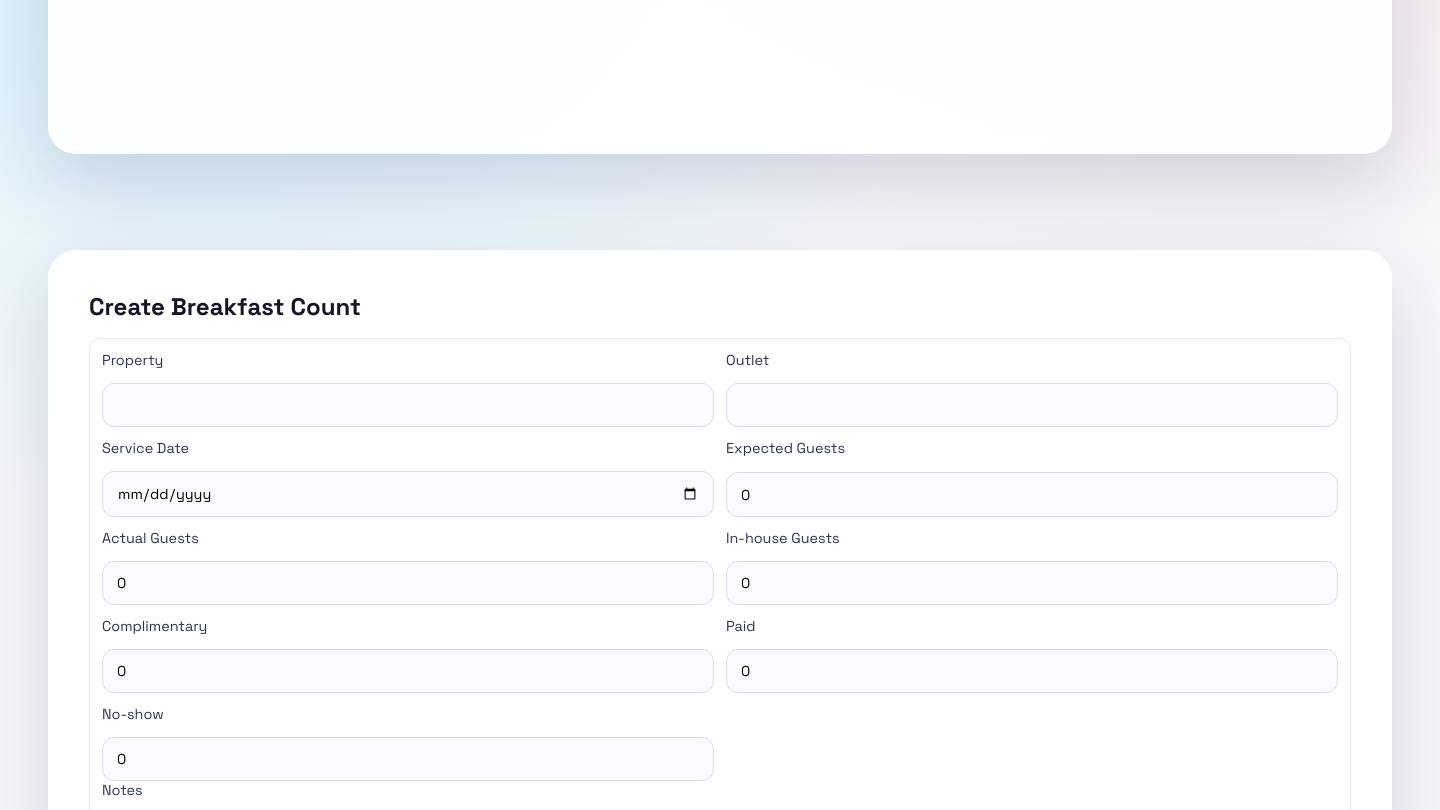
Test case: Breakfast count views › renders list rows and validates form
(page scrolled)
Type "1" into the field labelled "Property".
click(408, 405); type("1")  # box [102,383,714,427]
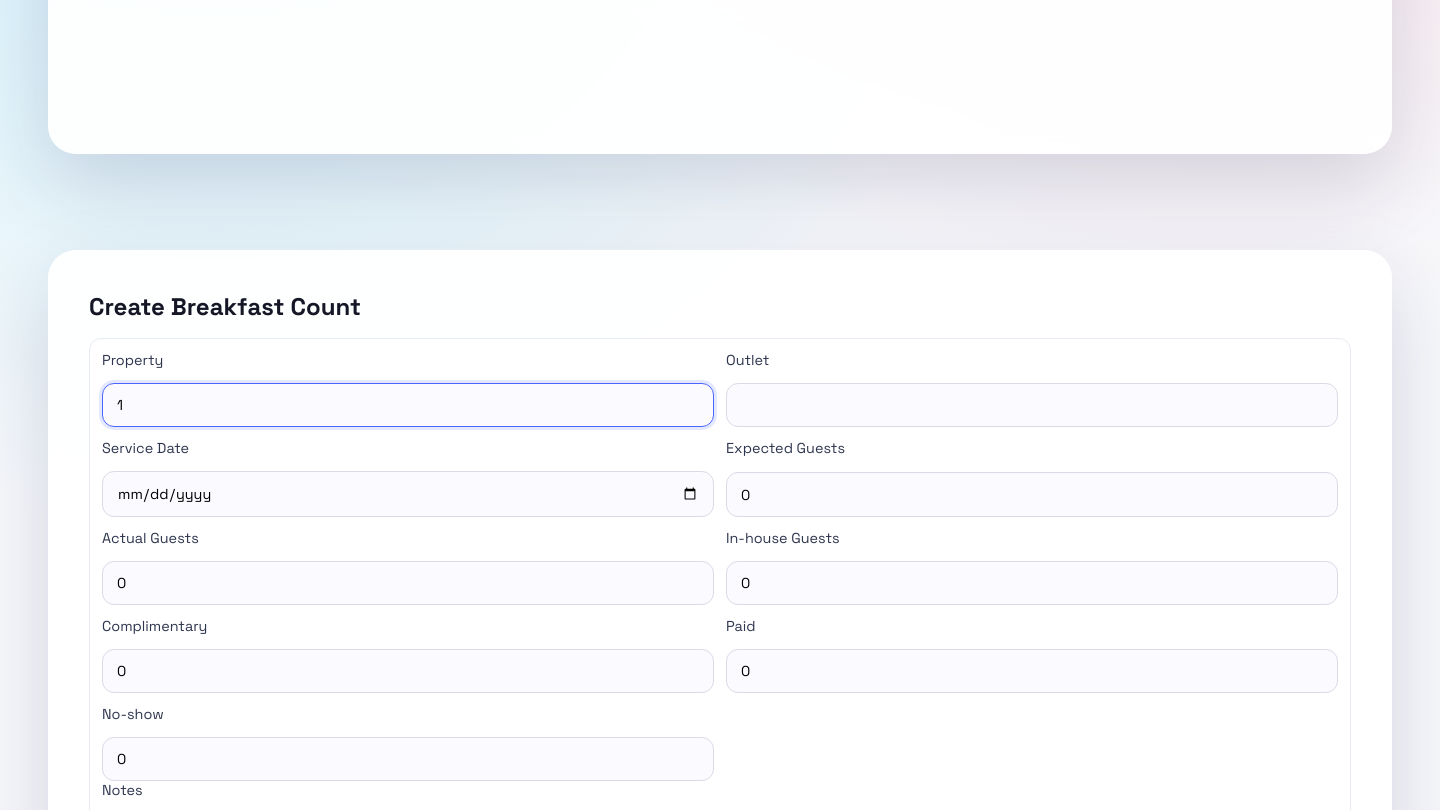
Type "2" into the field labelled "Outlet".
click(1032, 405); type("2")  # box [726,383,1338,427]
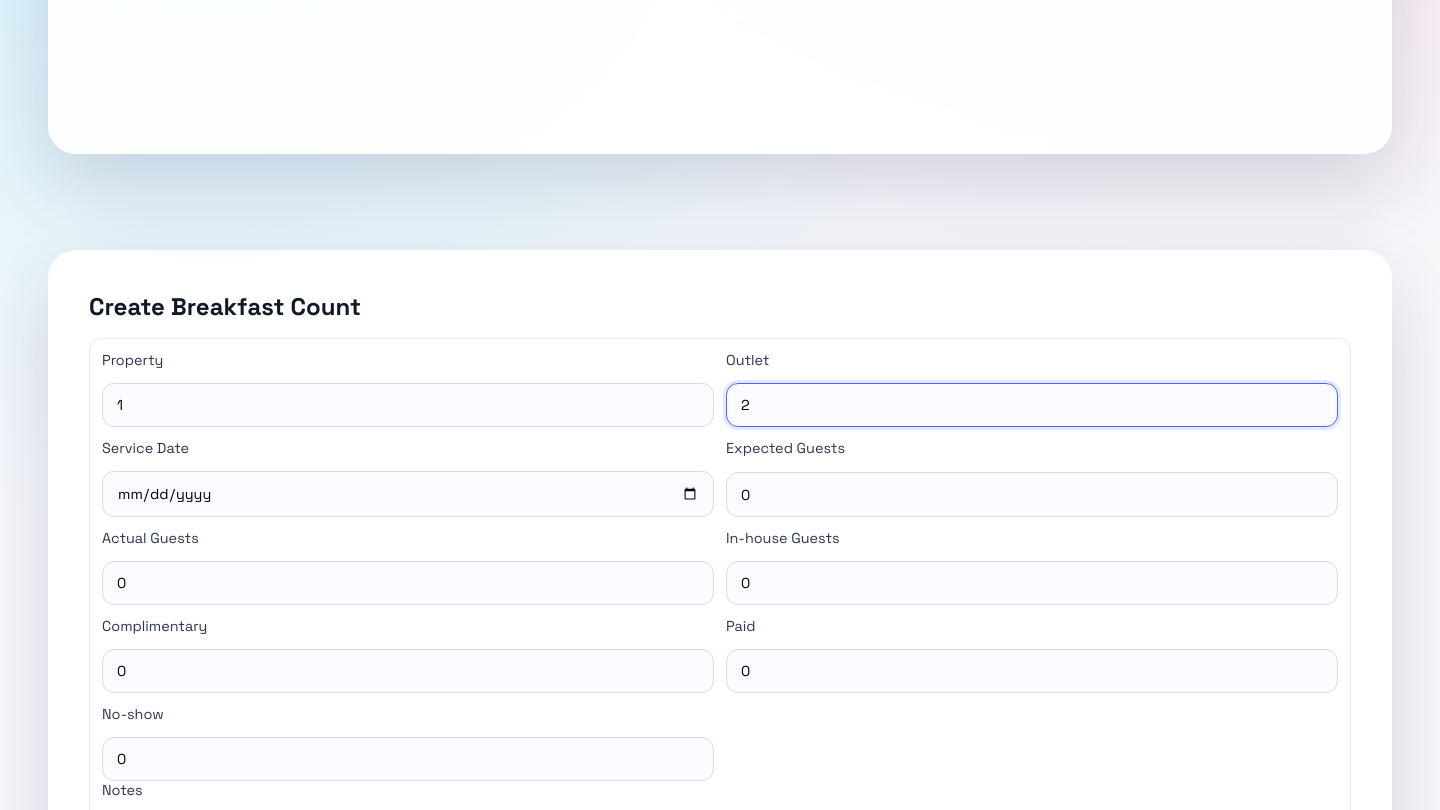
Type "2026-05-01" into the date field labelled "Service Date".
click(408, 494); type("2026-05-01")  # box [102,471,714,517]
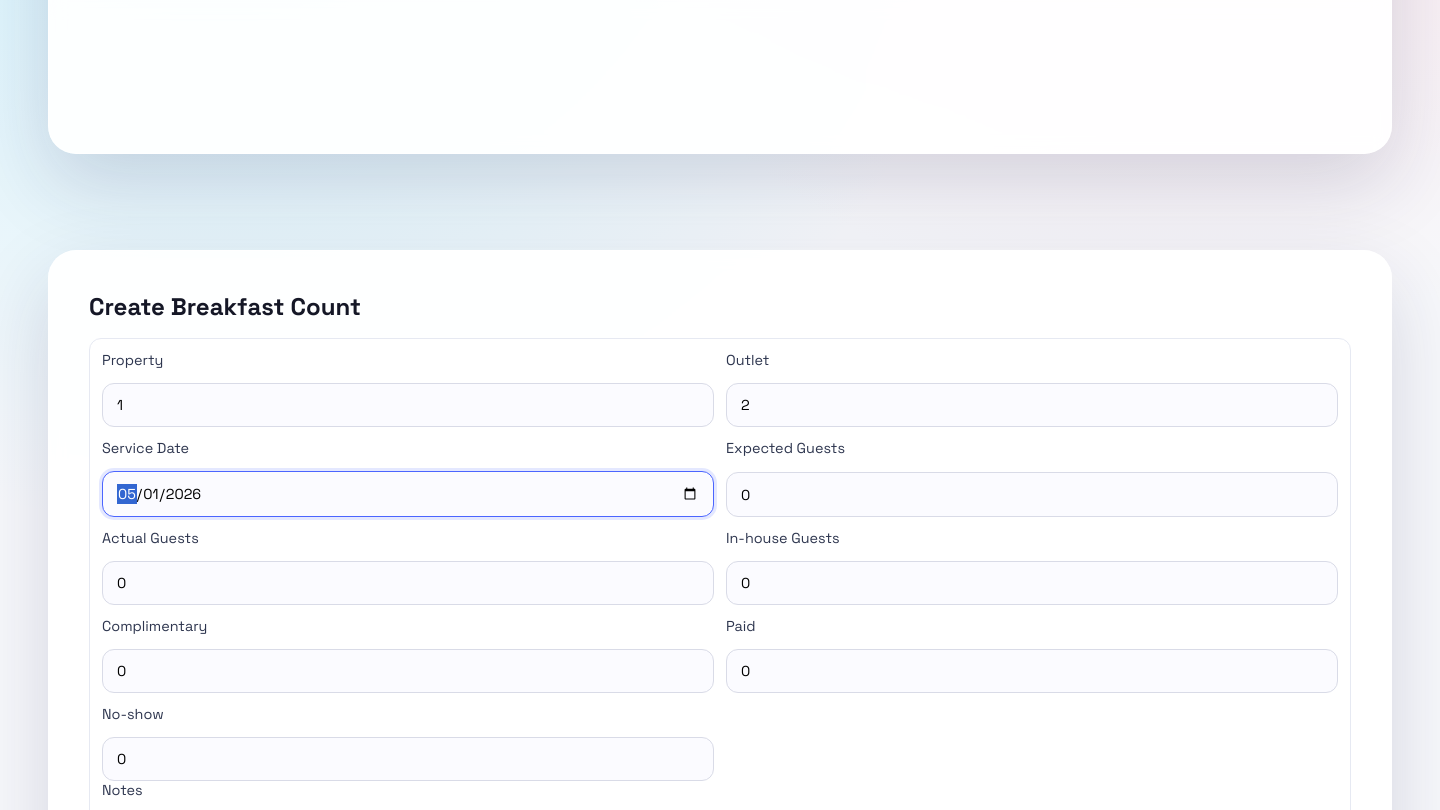
Replace the text in the number field labelled "Actual Guests" with "-1" at [408, 583], box [102,561,714,605]
(page scrolled)
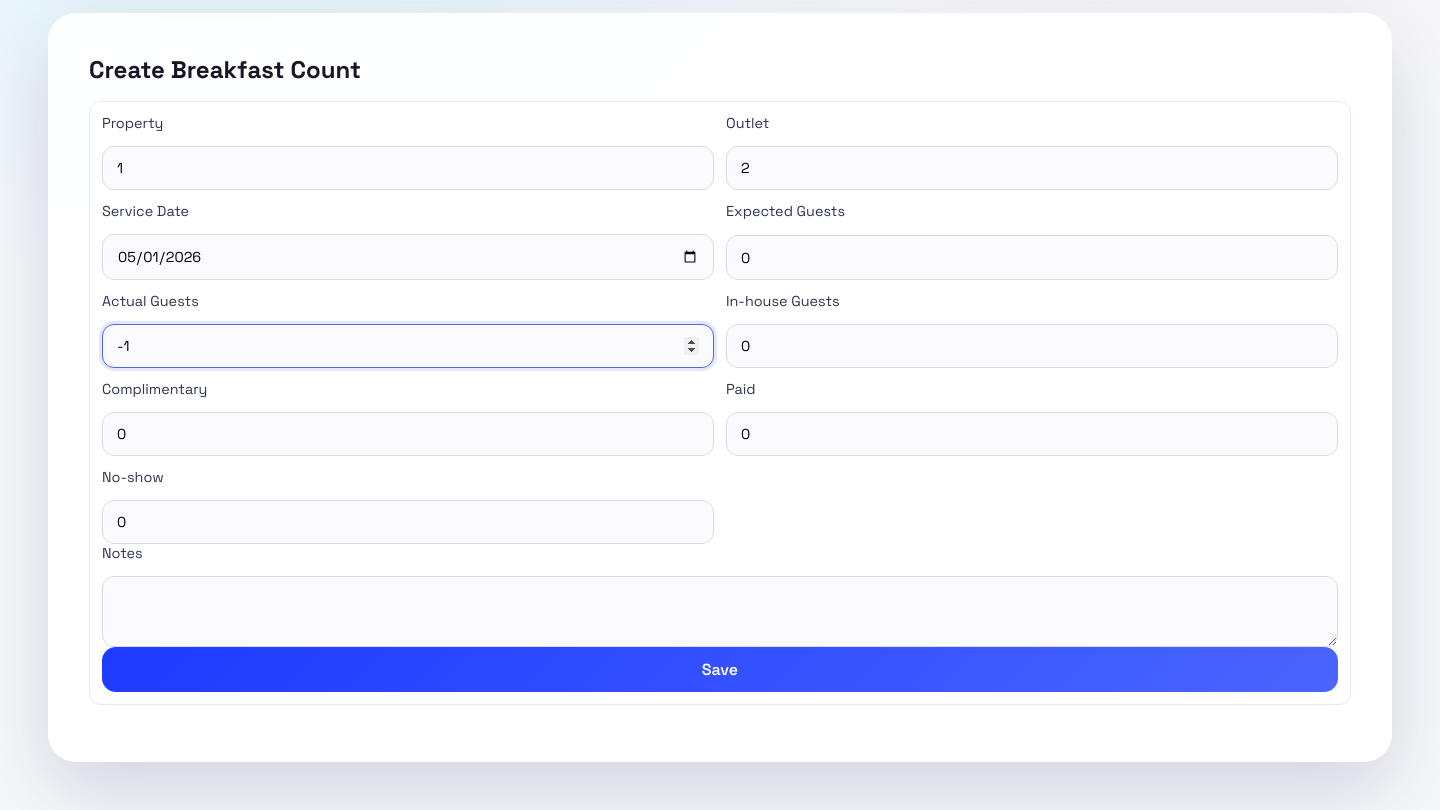
Click the button "Save".
click(720, 670)  # box [102,647,1338,692]
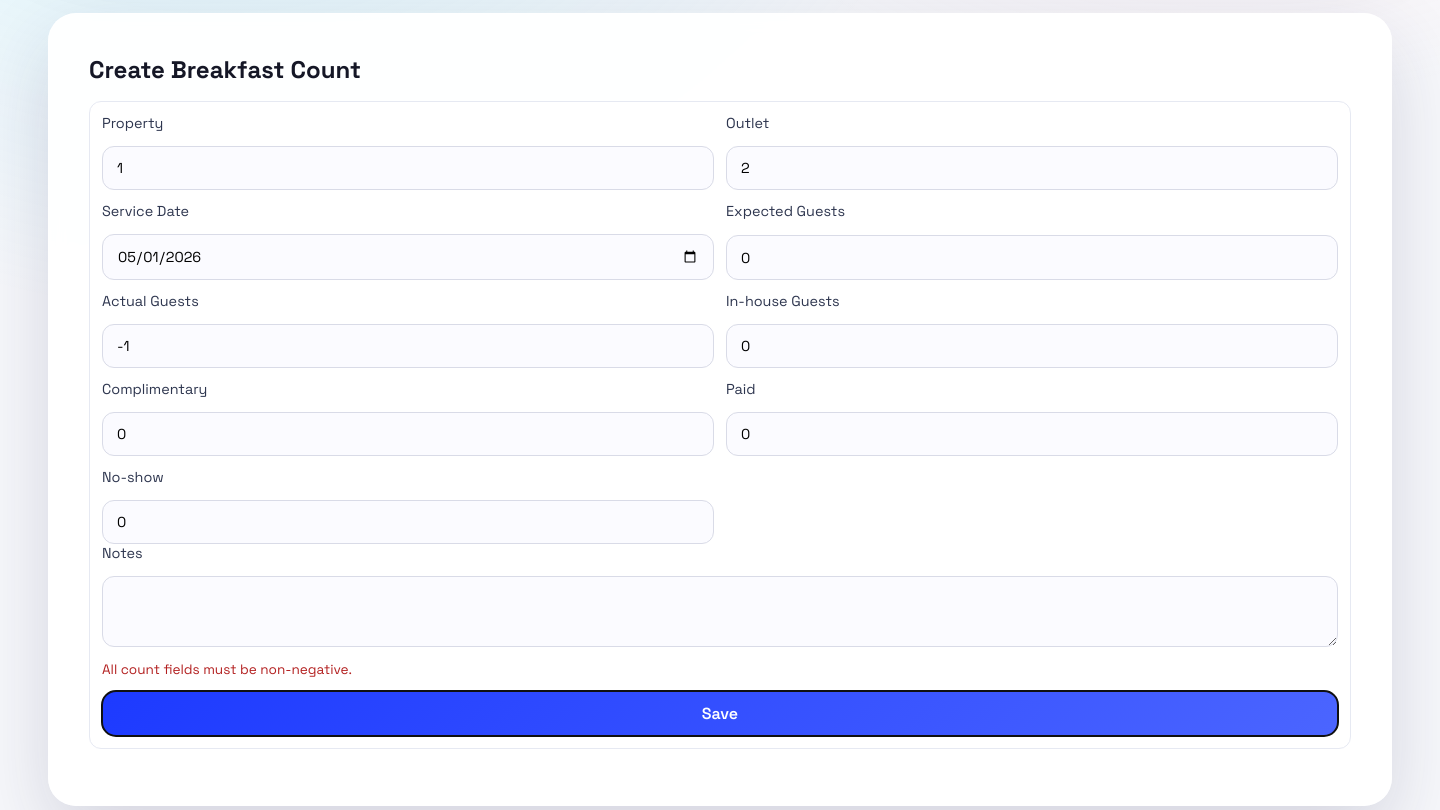
Expected: the text "All count fields must be non-negative." is shown, [102,661,352,678]
